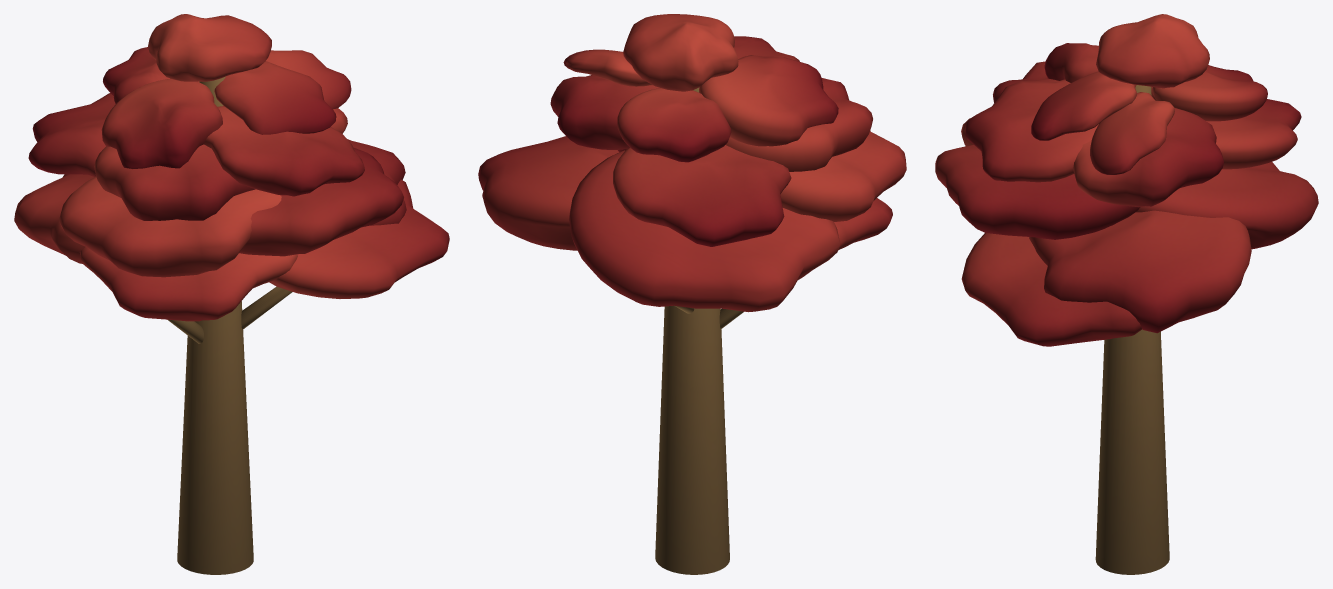
Rendered from SM_Tree01.fbx.
3 views of the same model, side by side, from view 1: azimuth 30°, elevation 25°; view 2: azimuth 150°, elevation 25°; view 3: azimuth 270°, elevation 25° (orthographic). The views are drawn at different scales.
Visible parts, largest first — view 1: Tree_01; view 2: Tree_01; view 3: Tree_01.
Part boxes in pixels (x1,y1,x2,y2): Tree_01: [14, 14, 449, 574]; Tree_01: [478, 14, 906, 574]; Tree_01: [935, 14, 1318, 574].
Bounding box in the file's own units: 369 × 522 × 338.
